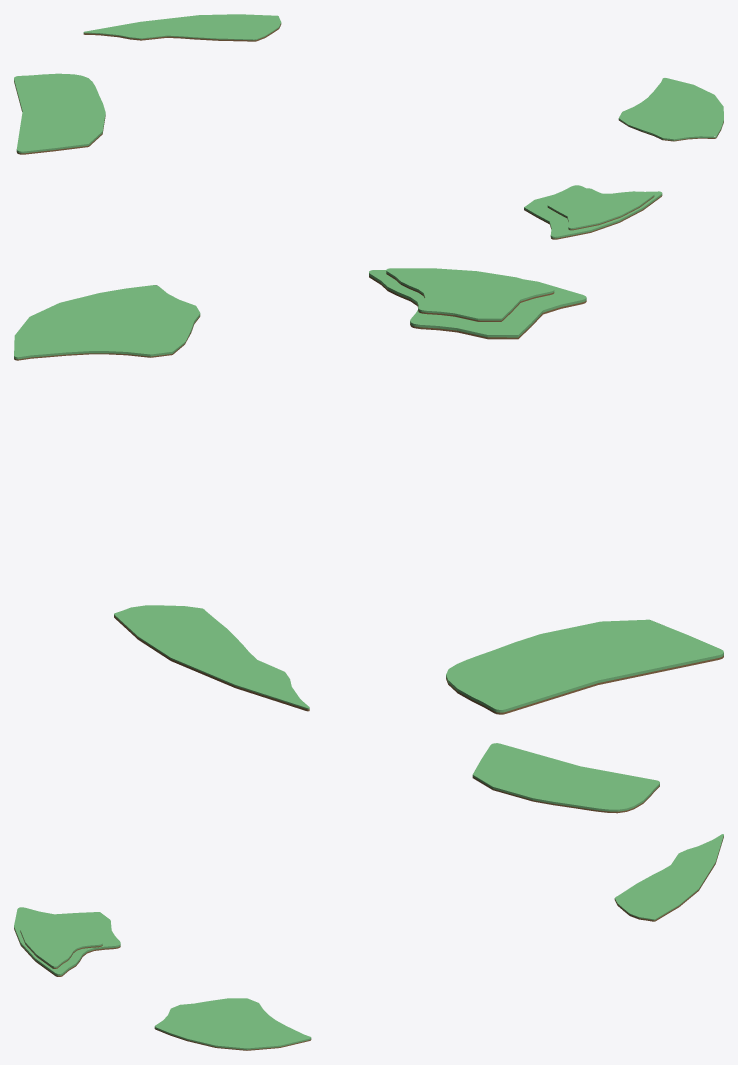
File: Upper_tiles_meshFinal.fbx
3 renders of one model, top to bottom at view 1: azimuth 30°, elevation 25°; view 2: azimuth 150°, elevation 25°; view 3: azimuth 270°, elevation 25°, orthographic. The views are drawn at different scales.
Visible parts, largest first — view 1: polySurface7__1_1, polySurface4__1_1, polySurface6__1_1, polySurface3__2_2, polySurface3__1_2; view 2: polySurface7__1_1, polySurface4__1_1, polySurface6__1_1, polySurface3__2_2, polySurface3__1_2, polySurface3__2_3; view 3: polySurface7__1_1, polySurface4__1_1, polySurface6__1_1, polySurface3__2_2, polySurface3__1_2.
Part boxes in pixels (box(x1,y1,x2,y2)): polySurface7__1_1: box(14, 73, 105, 154); polySurface4__1_1: box(618, 78, 723, 141); polySurface6__1_1: box(83, 14, 281, 41); polySurface3__2_2: box(547, 188, 654, 230); polySurface3__1_2: box(524, 185, 662, 239); polySurface7__1_1: box(446, 619, 723, 714); polySurface4__1_1: box(14, 285, 200, 360); polySurface6__1_1: box(114, 605, 309, 711); polySurface3__2_2: box(386, 268, 554, 321); polySurface3__1_2: box(369, 270, 586, 339); polySurface3__2_3: box(386, 268, 554, 310); polySurface7__1_1: box(472, 743, 659, 813); polySurface4__1_1: box(154, 998, 311, 1050); polySurface6__1_1: box(614, 834, 723, 921); polySurface3__2_2: box(20, 915, 102, 968); polySurface3__1_2: box(14, 907, 120, 976).
Size of the model in its own units: 8683 by 75.38 by 8562.
